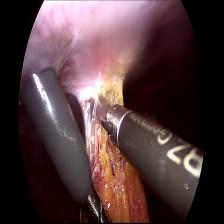Scissors: (91, 92, 130, 150)
